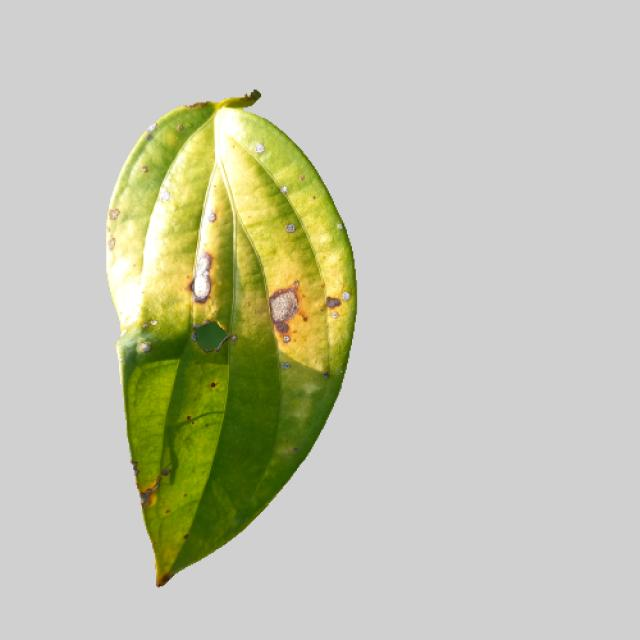leaf-blight: (91, 97, 366, 585)
